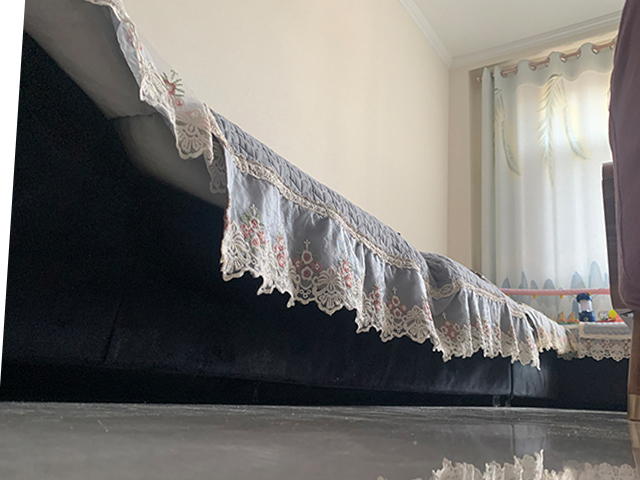curtain: (479, 35, 613, 322)
sofa: (135, 107, 420, 403), (425, 253, 560, 410)
